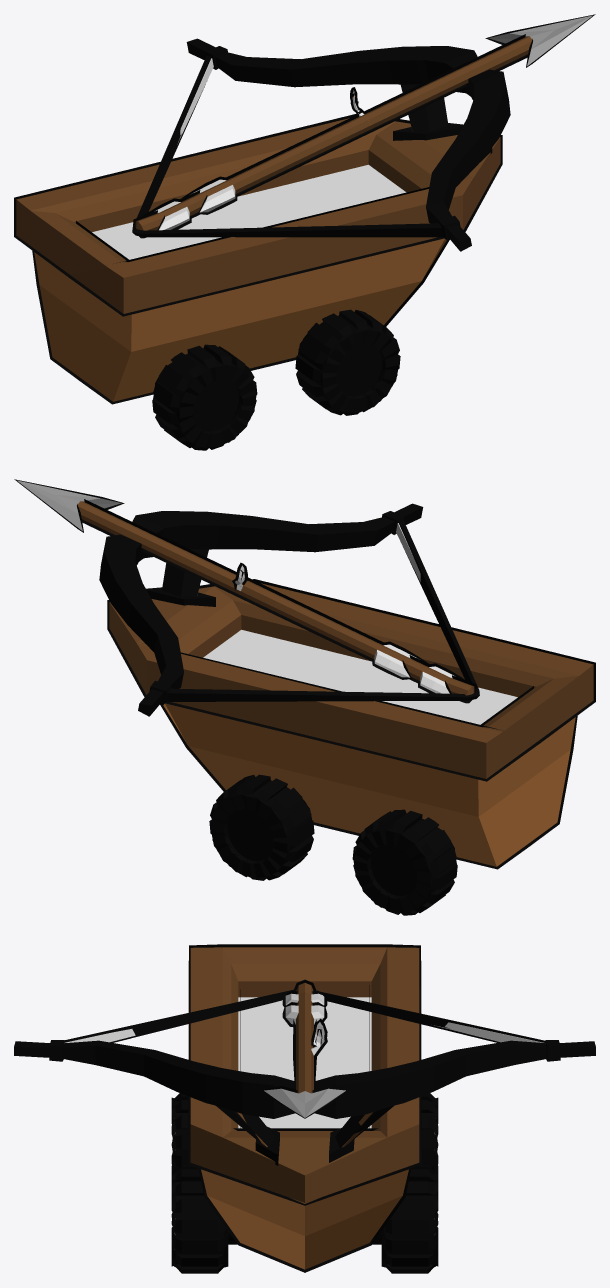
Rendered from Balista (1).fbx.
3 views of the same model, one above another, from view 1: azimuth 30°, elevation 25°; view 2: azimuth 150°, elevation 25°; view 3: azimuth 270°, elevation 25° (orthographic). The views are drawn at different scales.
Visible parts, largest first — view 1: Cube.001, Cylinder; view 2: Cube.001, Cylinder; view 3: Cube.001, Cylinder.
Part boxes in pixels (<box>): Cube.001: <box>14,14,595,404</box>; Cylinder: <box>152,309,400,450</box>; Cube.001: <box>14,479,595,869</box>; Cylinder: <box>209,774,457,915</box>; Cube.001: <box>14,944,595,1272</box>; Cylinder: <box>171,1093,438,1273</box>.
Bounding box in the file's own units: 544 × 608 × 314.
